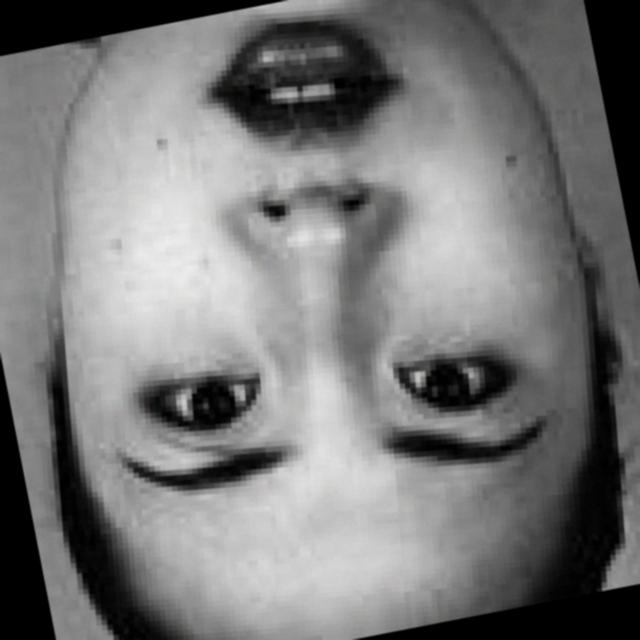fear: (31, 0, 605, 640)
